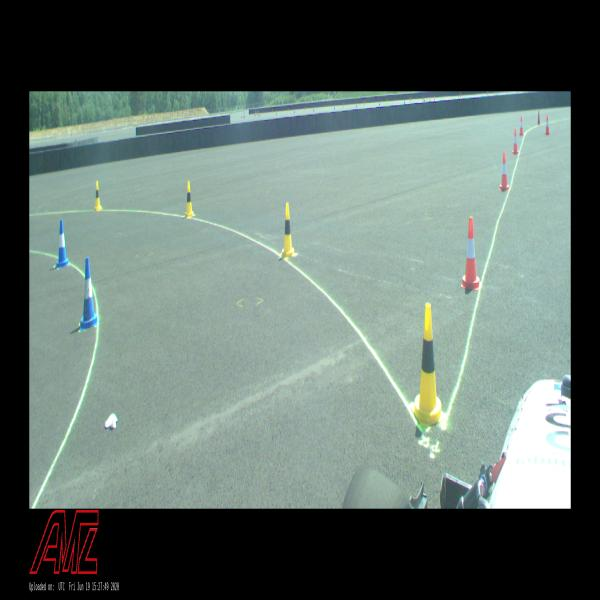blue_cone: (80, 257, 97, 328), (56, 219, 69, 266)
orange_cone: (462, 219, 481, 288), (499, 152, 509, 190), (512, 128, 518, 154), (520, 116, 524, 136), (545, 115, 549, 134)
yellow_cone: (413, 304, 444, 421), (281, 202, 295, 258), (185, 182, 194, 216), (94, 180, 102, 210)
